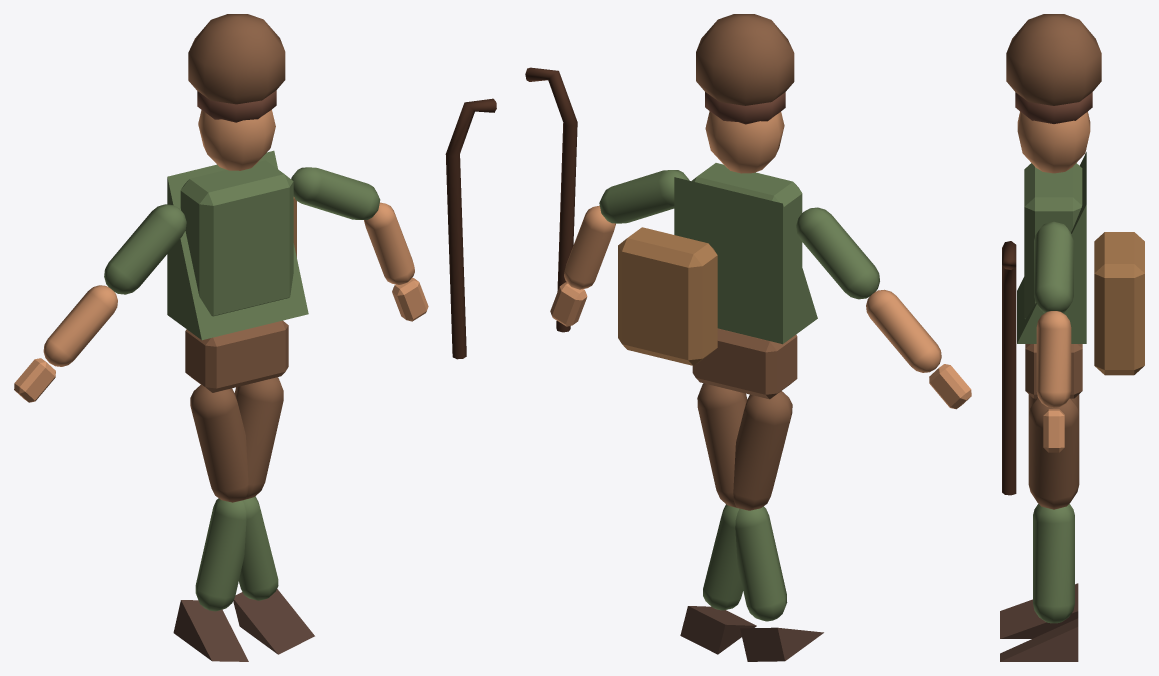
File: adventurer.rustic.glb
3 renders of one model, left to right at view 1: azimuth 30°, elevation 25°; view 2: azimuth 150°, elevation 25°; view 3: azimuth 270°, elevation 25°, orthographic.
Parts seen in each view (by area): view 1: torso, accessory.head, tunic, pelvis, thigh.left, shin.right, accessory.main-hand, upper-arm.left, thigh.right, head, upper-arm.right, forearm.left (+7 smaller); view 2: tunic, accessory.back, accessory.head, pelvis, thigh.left, shin.right, upper-arm.left, thigh.right, head, accessory.main-hand, forearm.left, upper-arm.right (+8 smaller); view 3: accessory.head, accessory.back, shin.left, thigh.right, torso, accessory.main-hand, upper-arm.right, head, forearm.right, tunic, foot.left, foot.right (+3 smaller).
Boxes of the visible parts, left/top/right/bottom form: torso: left=180, top=160, right=293, bottom=316; accessory.head: left=188, top=14, right=285, bottom=104; tunic: left=167, top=150, right=308, bottom=340; pelvis: left=185, top=320, right=288, bottom=392; thigh.left: left=190, top=385, right=248, bottom=502; shin.right: left=195, top=498, right=246, bottom=611; accessory.main-hand: left=445, top=98, right=496, bottom=359; upper-arm.left: left=104, top=204, right=186, bottom=294; thigh.right: left=235, top=377, right=283, bottom=499; head: left=198, top=109, right=275, bottom=170; upper-arm.right: left=291, top=167, right=380, bottom=219; forearm.left: left=43, top=285, right=117, bottom=366; tunic: left=674, top=177, right=817, bottom=344; accessory.back: left=618, top=227, right=717, bottom=365; accessory.head: left=696, top=14, right=794, bottom=105; pelvis: left=692, top=328, right=797, bottom=399; thigh.left: left=733, top=391, right=792, bottom=510; shin.right: left=735, top=506, right=787, bottom=621; upper-arm.left: left=796, top=207, right=879, bottom=299; thigh.right: left=697, top=383, right=747, bottom=507; head: left=705, top=111, right=784, bottom=173; accessory.main-hand: left=525, top=67, right=577, bottom=332; forearm.left: left=866, top=289, right=941, bottom=372; upper-arm.right: left=599, top=170, right=689, bottom=223; accessory.head: left=1006, top=14, right=1101, bottom=105; accessory.back: left=1094, top=232, right=1144, bottom=375; shin.left: left=1033, top=505, right=1074, bottom=623; thigh.right: left=1028, top=398, right=1079, bottom=509; torso: left=1024, top=163, right=1082, bottom=318; accessory.main-hand: left=1002, top=241, right=1016, bottom=495; upper-arm.right: left=1034, top=221, right=1073, bottom=313; head: left=1017, top=111, right=1090, bottom=173; forearm.right: left=1036, top=311, right=1071, bottom=407; tunic: left=1017, top=152, right=1086, bottom=343; foot.left: left=1000, top=618, right=1078, bottom=661; foot.right: left=1000, top=583, right=1078, bottom=638.
Size of the model in its own units: 2.52 by 3.28 by 0.685.
